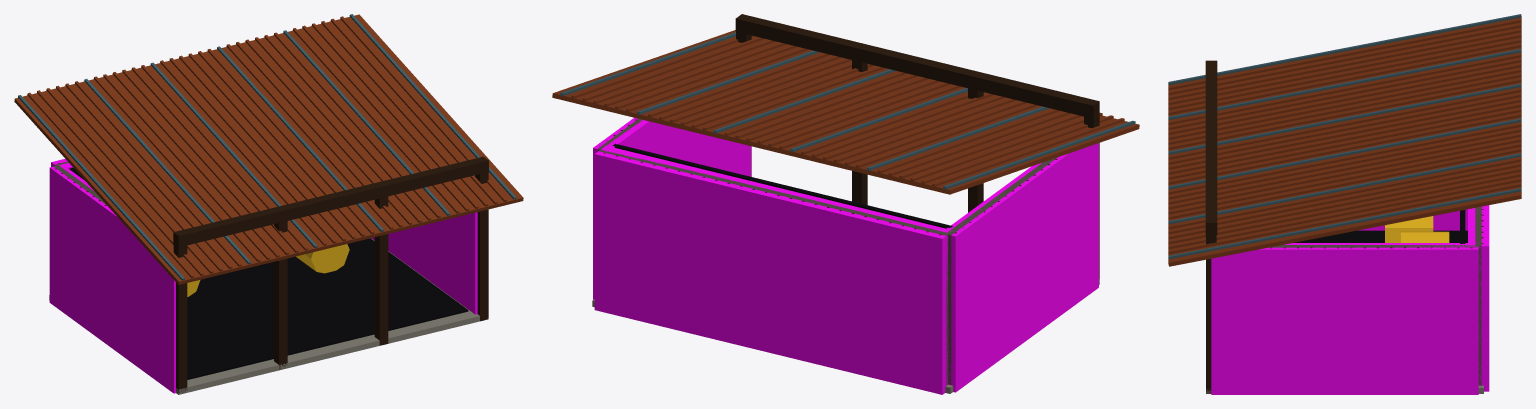
Rendered from Barn.fbx.
The picture shows the model from 3 angles, left to right: view 1: azimuth 30°, elevation 25°; view 2: azimuth 150°, elevation 25°; view 3: azimuth 270°, elevation 25°; orthographic projection. The views are drawn at different scales.
Visible parts, largest first — view 1: Barn, COL_Barn_0, COL_Barn_1; view 2: COL_Barn_2, Barn, COL_Barn_0, COL_Barn_1; view 3: Barn, COL_Barn_1, COL_Barn_2, COL_Barn_0.
Part boxes in pixels (x1,y1,x2,y2): Barn: [14, 14, 523, 394]; COL_Barn_0: [49, 164, 175, 393]; COL_Barn_1: [371, 212, 477, 314]; COL_Barn_2: [594, 145, 950, 394]; Barn: [552, 14, 1139, 393]; COL_Barn_0: [943, 143, 1098, 392]; COL_Barn_1: [593, 117, 751, 299]; Barn: [1168, 14, 1521, 393]; COL_Barn_1: [1211, 243, 1478, 394]; COL_Barn_2: [1468, 205, 1489, 391]; COL_Barn_0: [1358, 209, 1467, 230].
Size of the model in its own units: 8 by 4.34 by 6.62.
